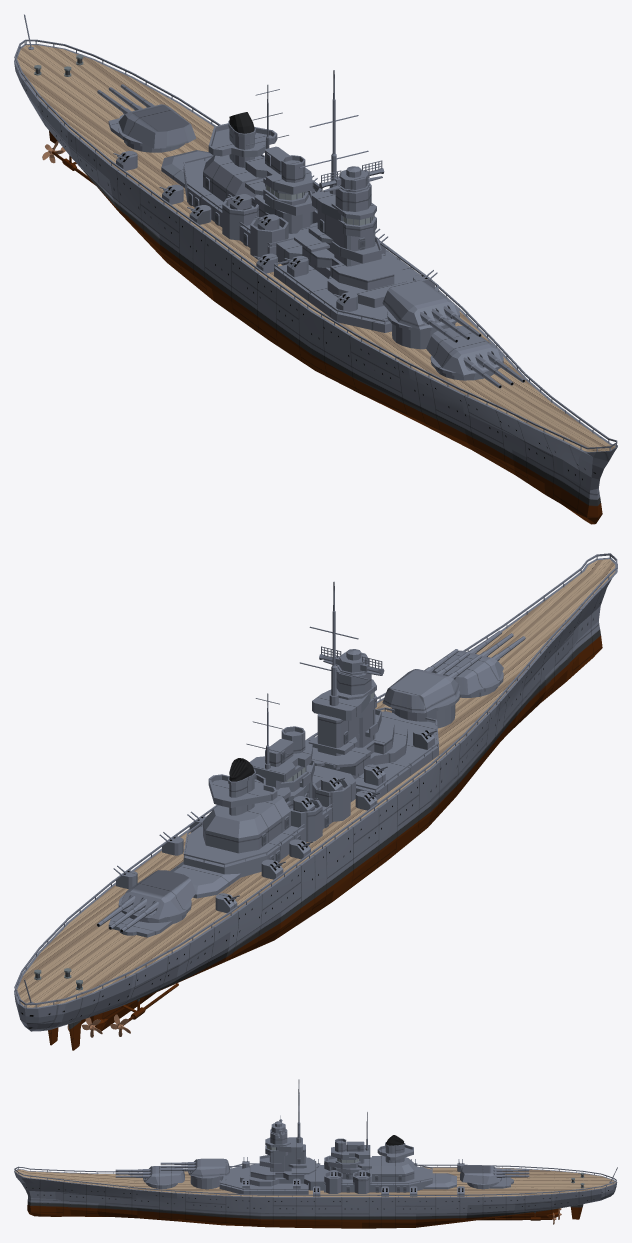
Rendered from SM_Veh_Boat_Large_01.fbx.
3 renders of one model, top to bottom at view 1: azimuth 30°, elevation 25°; view 2: azimuth 150°, elevation 25°; view 3: azimuth 270°, elevation 25°, orthographic. The views are drawn at different scales.
Visible parts, largest first — view 1: SM_Veh_Boat_Large_01; view 2: SM_Veh_Boat_Large_01; view 3: SM_Veh_Boat_Large_01.
Part boxes in pixels (x1=…): SM_Veh_Boat_Large_01: x1=14, y1=14, x2=617, y2=524; SM_Veh_Boat_Large_01: x1=14, y1=553, x2=617, y2=1050; SM_Veh_Boat_Large_01: x1=14, y1=1079, x2=617, y2=1228.
Size of the model in its own units: 2698 by 5634 by 22319.
1 material, 1 textured.
